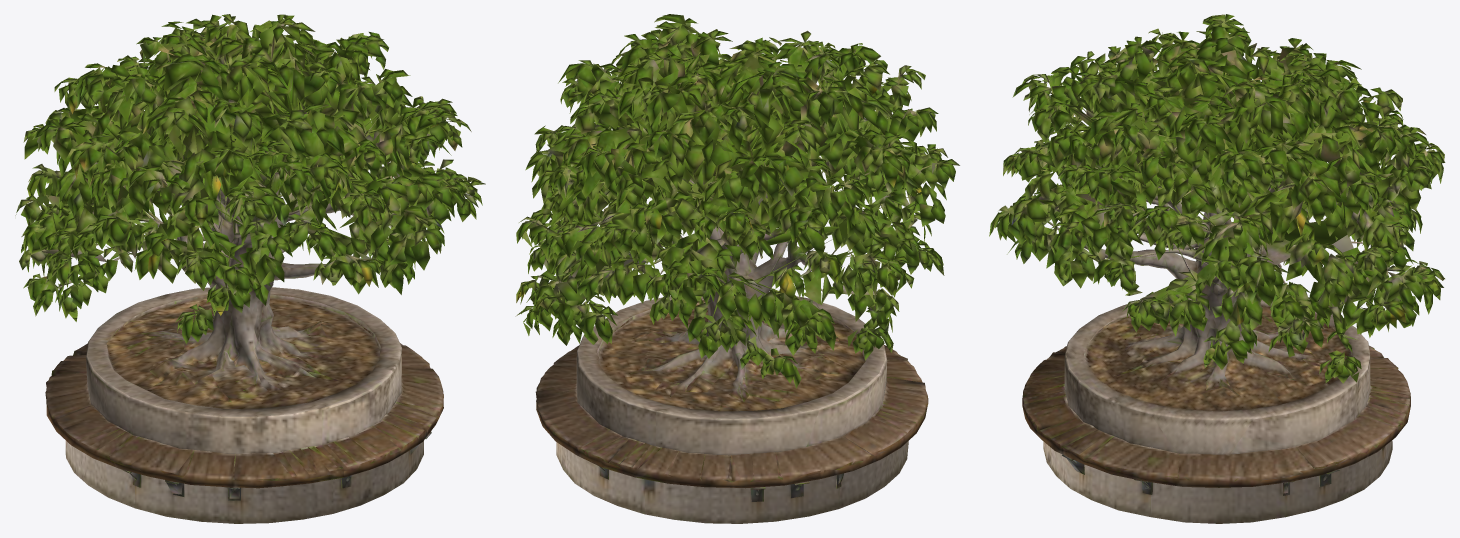
The model's file is skyways-d-lm-tree.glb.
The picture shows the model from 3 angles, left to right: view 1: azimuth 30°, elevation 25°; view 2: azimuth 150°, elevation 25°; view 3: azimuth 270°, elevation 25°; orthographic projection. The views are drawn at different scales.
Parts seen in each view (by area): view 1: skyways-d-lm-tree; view 2: skyways-d-lm-tree; view 3: skyways-d-lm-tree.
Boxes of the visible parts, <box> form: skyways-d-lm-tree: <box>15,14,485,523</box>; skyways-d-lm-tree: <box>515,14,959,523</box>; skyways-d-lm-tree: <box>989,14,1445,523</box>.
Bounding box in the file's own units: 7.48 × 7 × 7.35.
Materials: 1 (1 with a texture image).
